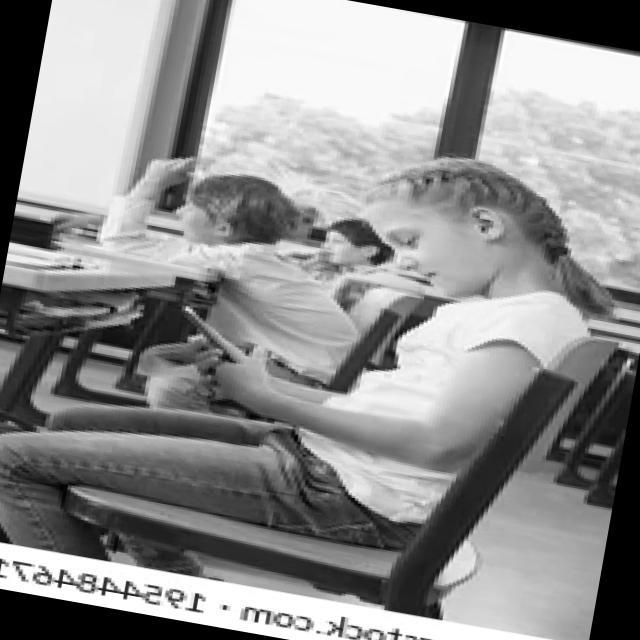phone: (174, 302, 258, 366)
